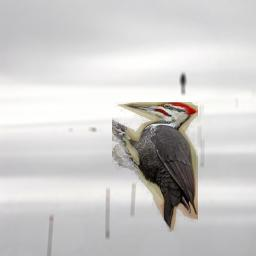Woodpecker: (112, 102, 198, 232)
